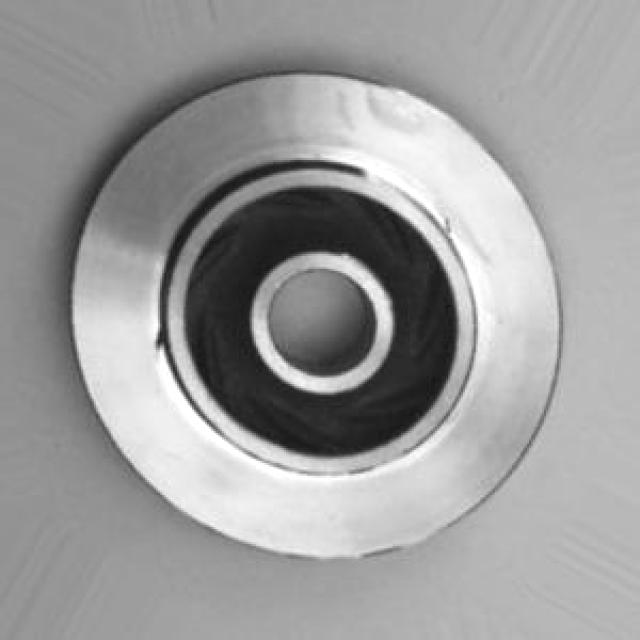Defect: (147, 312, 180, 359)
